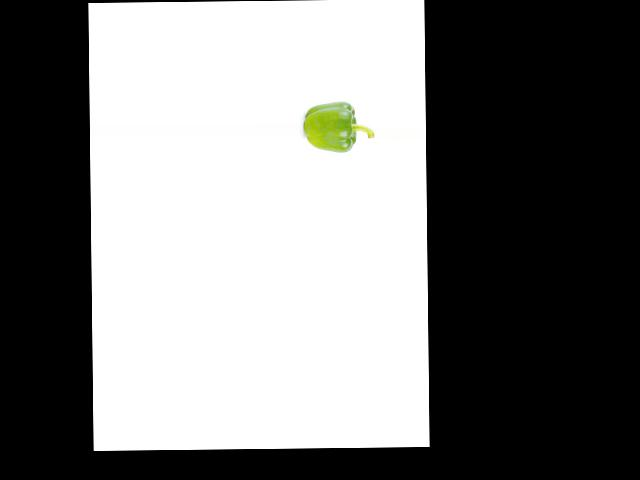bell_pepper: (303, 93, 372, 153)
